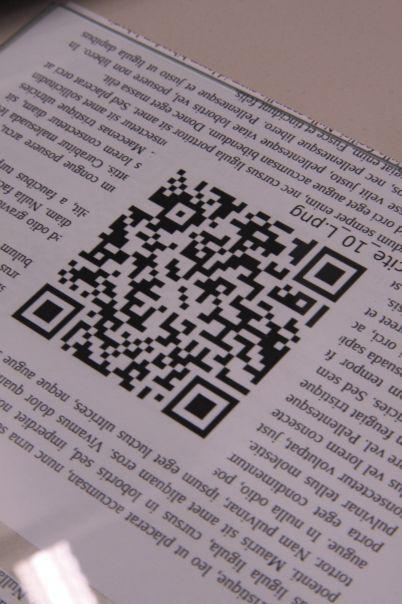Finder pattern: (163, 375, 241, 439), (292, 245, 369, 306), (15, 283, 85, 344)
